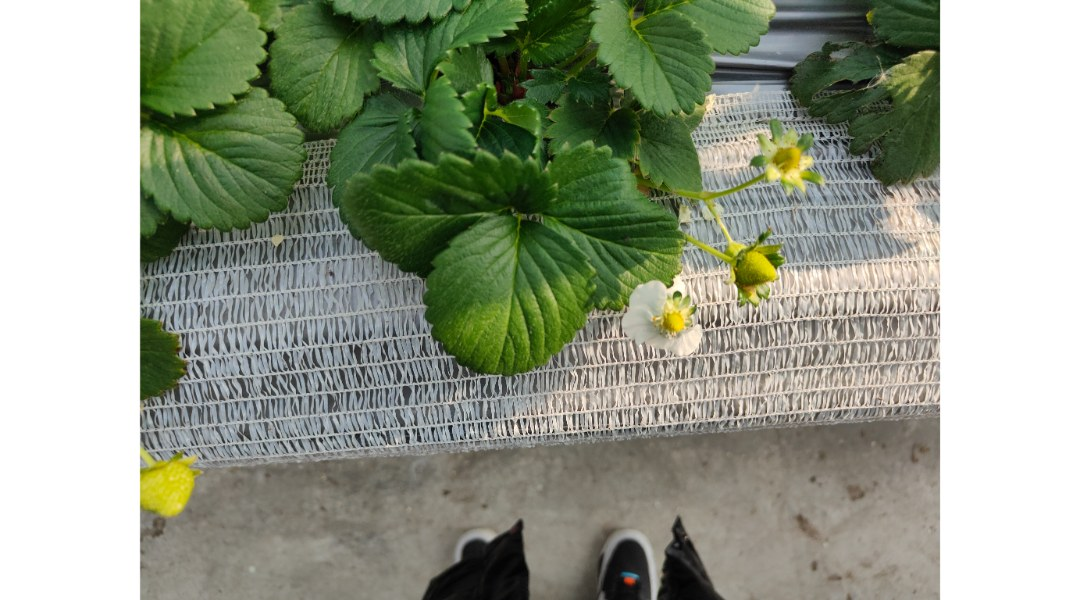berry: (101, 446, 207, 526), (747, 114, 826, 195)
flower: (615, 274, 708, 358), (726, 230, 791, 307)
